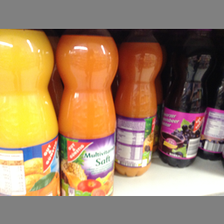juice: (55, 29, 117, 195), (1, 29, 61, 195), (158, 29, 215, 168), (115, 29, 163, 177)
